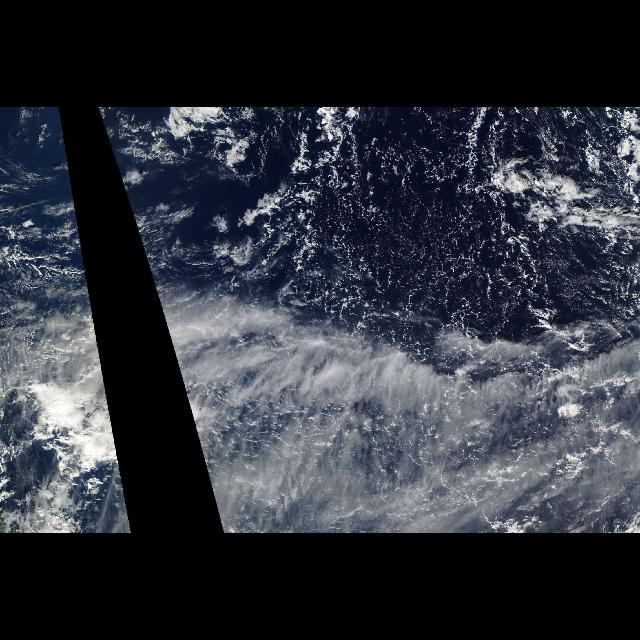Gravel: (235, 112, 640, 352)
